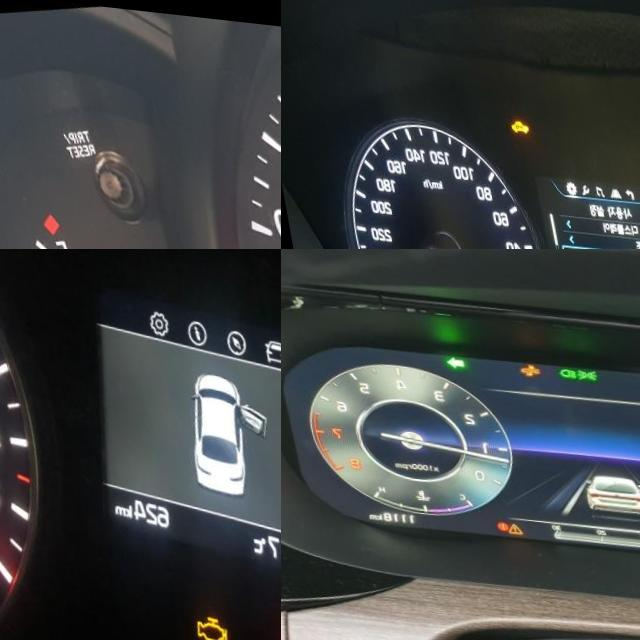Central Warning lamp: (492, 514, 510, 527)
Low beam: (550, 357, 569, 369)
SideLamp: (568, 358, 592, 371)
